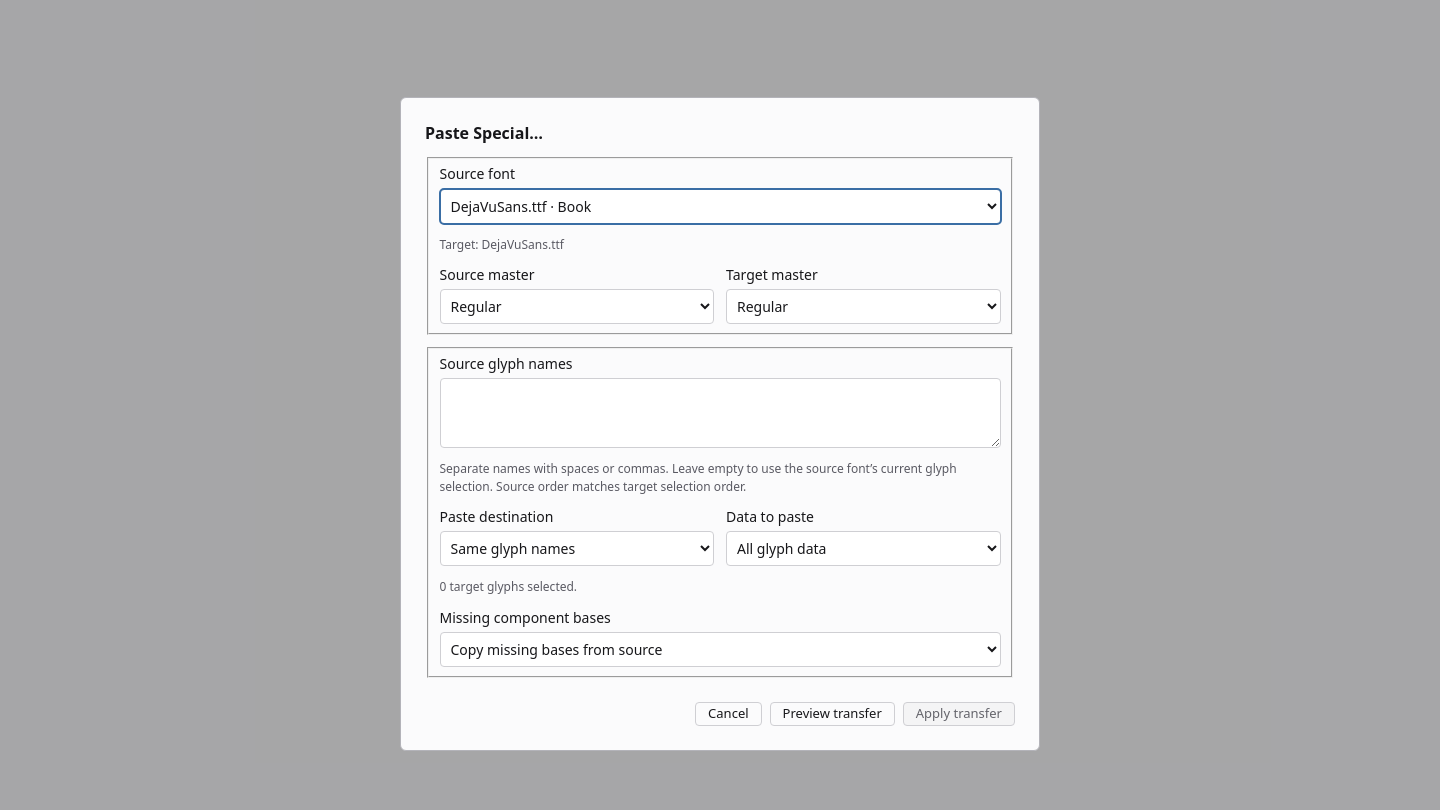
Scenario: keeps stale transfers open and requires a new preview
Type "A" into the text box labelled "Source glyph names" at (720, 413), box [440, 378, 1000, 448]
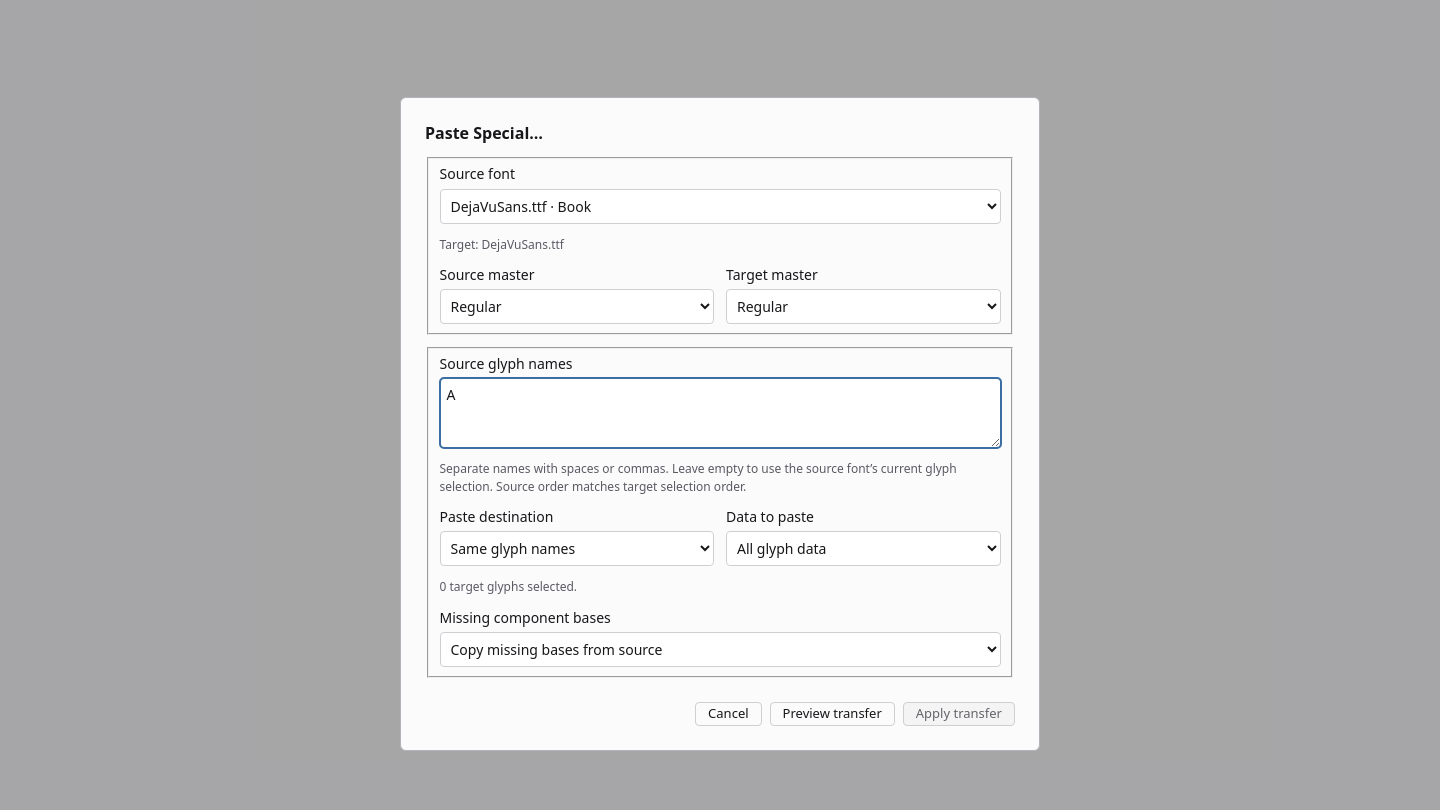
Click the button "Preview transfer" at (832, 714), box [770, 702, 895, 726]
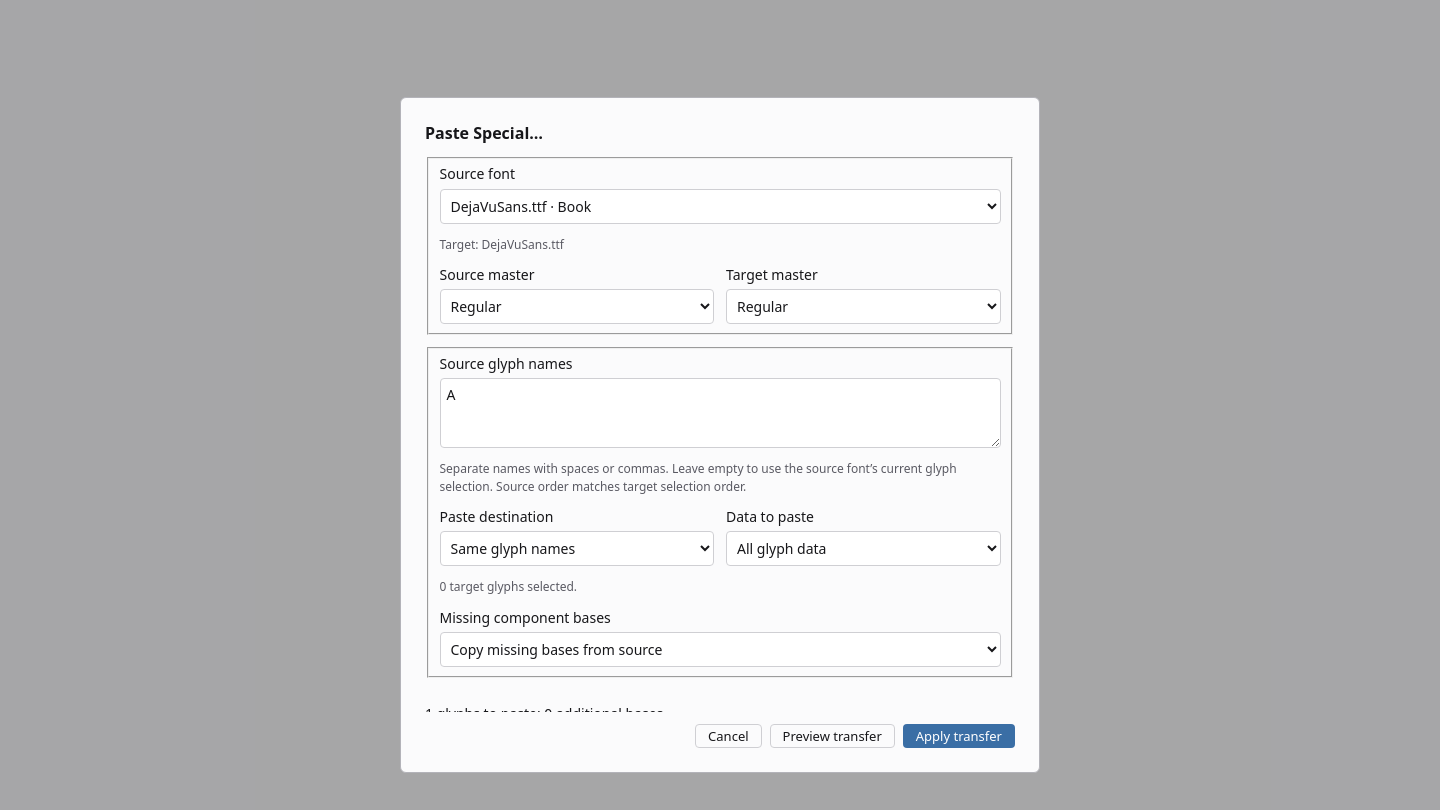
Click the button "Apply transfer" at (959, 736), box [903, 724, 1015, 748]
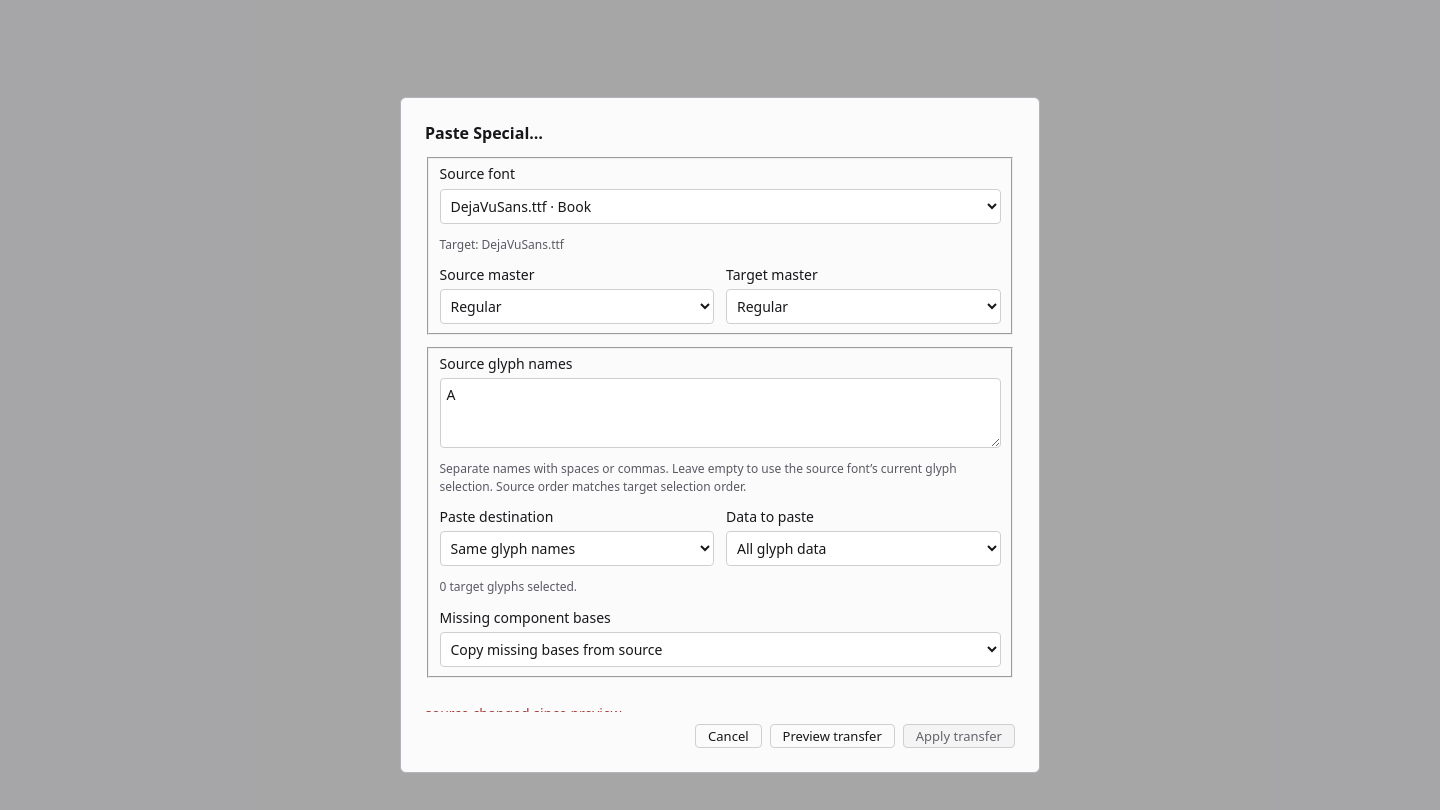
Expected: the button "Apply transfer" is disabled, [903, 724, 1015, 748]
